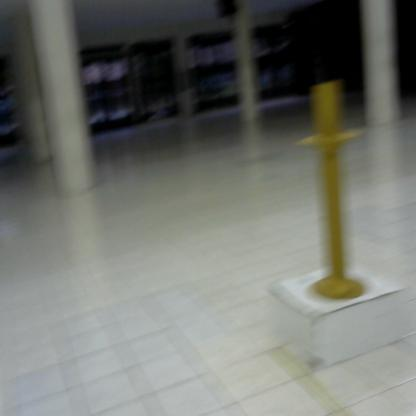pole: (286, 71, 381, 304)
